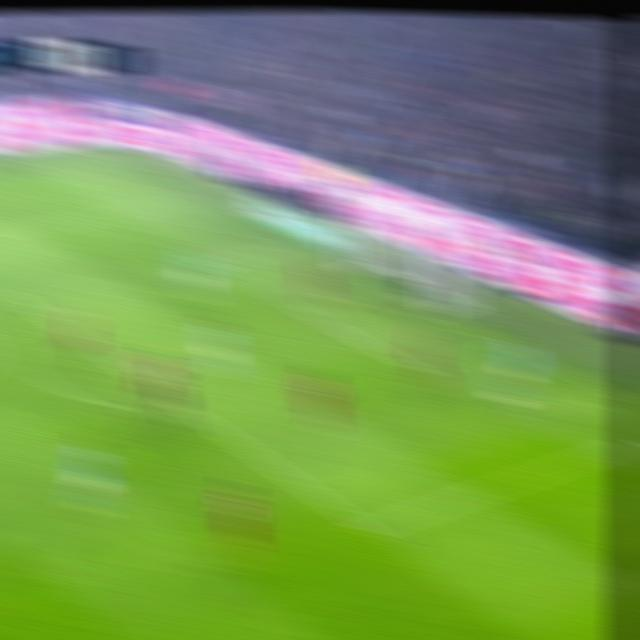bigarea_bottom_inner: (347, 513, 388, 548)
bigarea_top_outter: (181, 191, 210, 206)
bottom_arc_area_intersection: (171, 397, 208, 426)
corner: (74, 145, 105, 158)
smallarea_bottom_inner: (400, 357, 437, 381)
smallarea_bottom_outter: (490, 333, 522, 356)
smallarea_top_inner: (196, 248, 234, 280)
smallarea_top_outter: (279, 238, 308, 254)
top_arc_area_intersection: (23, 301, 55, 326)
